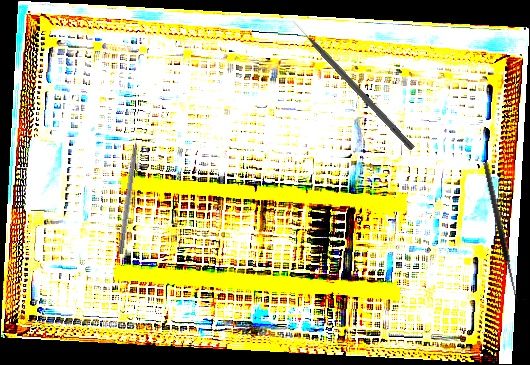Hook Surgical: (290, 17, 417, 151), (482, 160, 527, 303), (117, 126, 143, 255)
